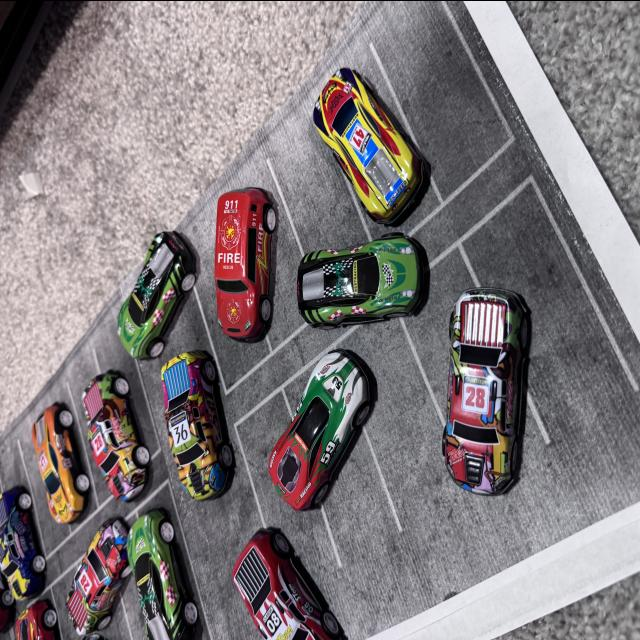Car: (295, 78, 490, 228), (432, 258, 545, 494), (292, 213, 442, 345), (113, 175, 205, 363), (264, 338, 359, 496), (233, 518, 353, 640), (80, 366, 172, 524), (64, 498, 168, 625), (198, 204, 276, 360), (158, 339, 230, 501), (126, 463, 184, 640), (29, 397, 91, 541), (1, 468, 36, 617), (1, 581, 63, 640), (0, 517, 13, 640)
